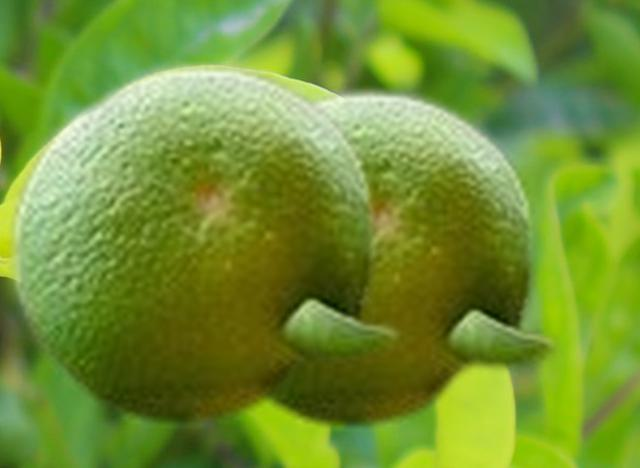dalandan: (3, 55, 405, 427), (267, 81, 562, 430)
